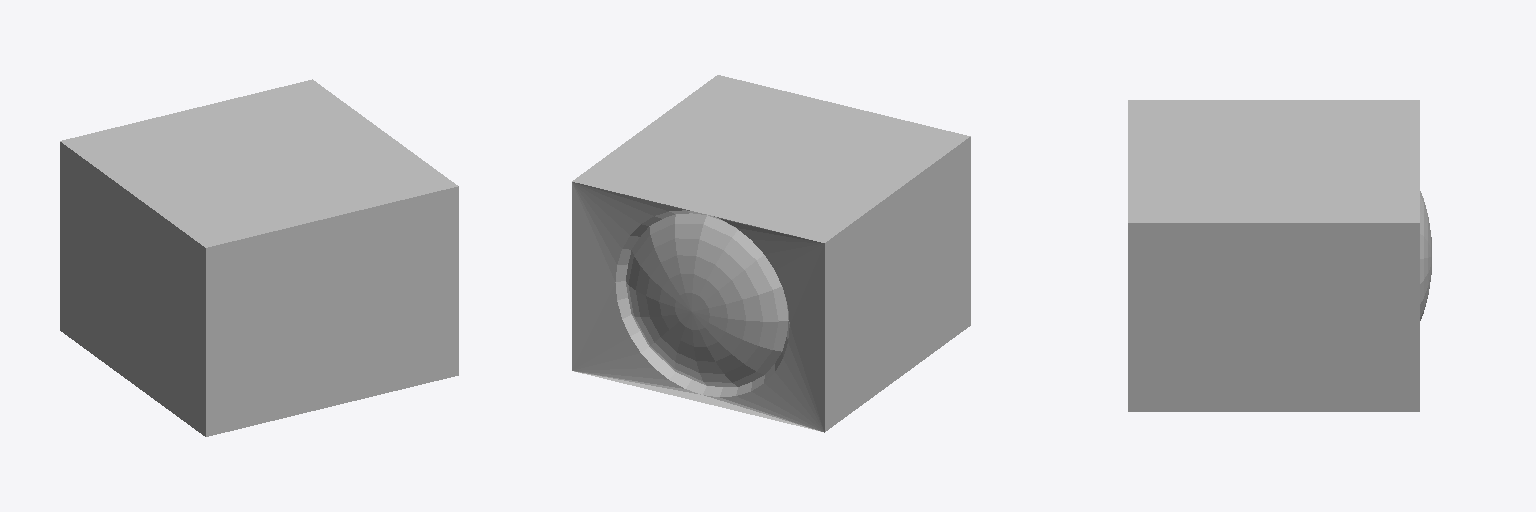
File: PTZaxis2.obj
3 views of the same model, side by side, from view 1: azimuth 30°, elevation 25°; view 2: azimuth 150°, elevation 25°; view 3: azimuth 270°, elevation 25° (orthographic).
Visible parts, largest first — view 1: Sphere; view 2: Sphere; view 3: Sphere.
Boxes of the visible parts, box(x1,y1,x2,y2) form: Sphere: box(60, 79, 458, 436); Sphere: box(572, 75, 970, 432); Sphere: box(1128, 100, 1431, 411).
Size of the model in its own units: 0.95 by 0.6793 by 0.9917.